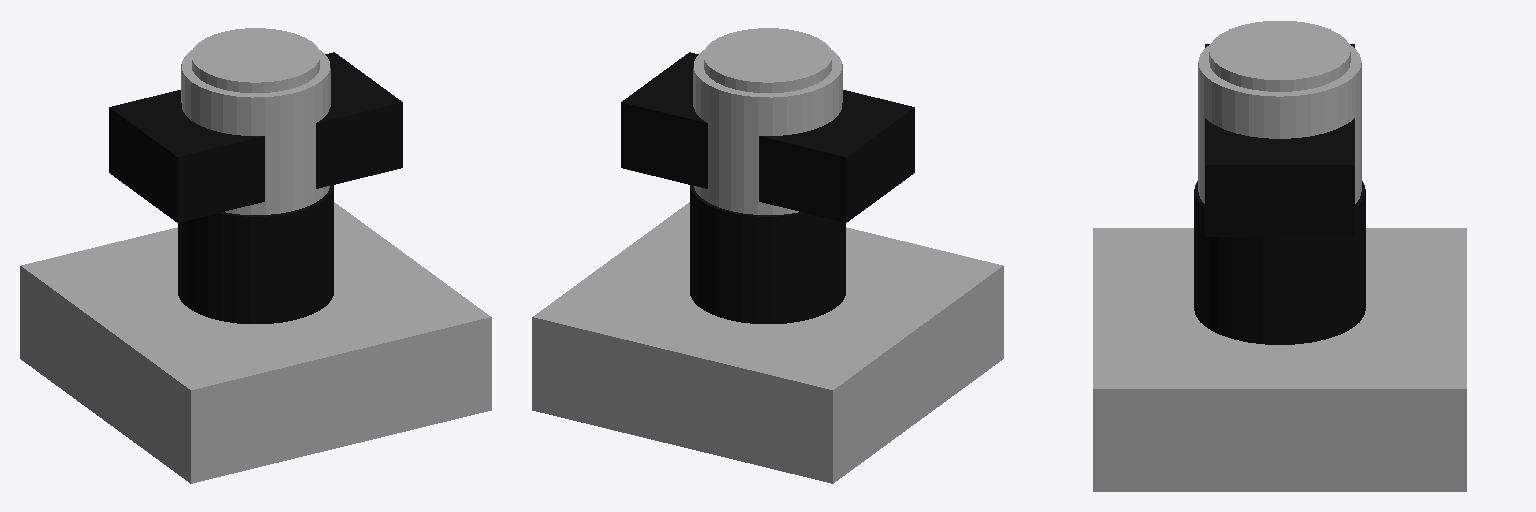
The robot description file, URDF, robot "evolved_robot":
<?xml version="1.0"?>
<robot name="evolved_robot">
  <material name="metal">
    <color rgba="0.7 0.7 0.7 1.0"/>
  </material>
  <material name="plastic">
    <color rgba="0.3 0.3 0.9 1.0"/>
  </material>
  <material name="rubber">
    <color rgba="0.1 0.1 0.1 1.0"/>
  </material>
  <material name="red">
    <color rgba="1.0 0.0 0.0 1.0"/>
  </material>
  <material name="wheel_material">
    <color rgba="0.2 0.2 0.2 1.0"/>
  </material>
  <link name="base_link">
    <visual>
      <geometry><box size="0.30694219765450376 0.3014203492185933 0.09121875435821769"/></geometry>
      <material name="metal"/>
    </visual>
    <collision>
      <geometry><box size="0.30694219765450376 0.3014203492185933 0.09121875435821769"/></geometry>
    </collision>
    <inertial>
      <mass value="5.0"/>
      <inertia ixx="0.08264590672476967" ixy="0" ixz="0" 
               iyy="0.0854453115397011" iyz="0" 
               izz="0.15422311635336267"/>
    </inertial>
  </link>
  <link name="link1">
    <visual>
      <geometry><cylinder radius="0.0693888481214605" length="0.20992373954302018"/></geometry>
      <material name="rubber"/>
    </visual>
    <collision>
      <geometry><cylinder radius="0.0693888481214605" length="0.20992373954302018"/></geometry>
    </collision>
    <inertial>
      <mass value="0.5"/>
      <inertia ixx="0.0048760344295495925" ixy="0" ixz="0" 
               iyy="0.0048760344295495925" iyz="0" 
               izz="0.002407406121811556"/>
    </inertial>
  </link>
  <joint name="joint1" type="prismatic">
    <parent link="base_link"/>
    <child link="link1"/>
    <origin xyz="0 0 0.045609377179108845" rpy="0 0 0"/>
    <axis xyz="-0.006001300511877532 0.8579276199265342 -0.5137355188804433"/>
    <dynamics damping="0.8837598170592937" friction="0.1"/>
    <limit lower="-2.19055709544216" upper="0.942" effort="100" velocity="100"/>
  </joint>
  <link name="link2">
    <visual>
      <geometry>
        <cylinder radius="0.05431213354518122" length="0.04821138832144219"/>
      </geometry>
      <material name="wheel_material"/>
    </visual>
    <collision>
      <geometry>
        <cylinder radius="0.05431213354518122" length="0.04821138832144219"/>
      </geometry>
    </collision>
    <inertial>
      <mass value="1.0"/>
      <inertia ixx="0.0009311467928808074" ixy="0" ixz="0" 
               iyy="0.0009311467928808074" iyz="0" 
               izz="0.0014749039251147995"/>
    </inertial>
  </link>
  <joint name="joint2" type="continuous">
    <parent link="base_link"/>
    <child link="link2"/>
    <origin xyz="0 0 0" rpy="1.5708 0 0"/>
    <axis xyz="0 0 1"/>
    <dynamics damping="0.22772052215840985" friction="0.1"/>
  </joint>
  <link name="link3">
    <visual>
      <geometry><sphere radius="0.027888158222664793"/></geometry>
      <material name="plastic"/>
    </visual>
    <collision>
      <geometry><sphere radius="0.027888158222664793"/></geometry>
    </collision>
    <inertial>
      <mass value="0.5"/>
      <inertia ixx="0.00031109974762095436" ixy="0" ixz="0" 
               iyy="0.00031109974762095436" iyz="0" 
               izz="0.00031109974762095436"/>
    </inertial>
  </link>
  <joint name="joint3" type="fixed">
    <parent link="base_link"/>
    <child link="link3"/>
    <origin xyz="0 0 0.09560937717910885" rpy="0 0 0"/>
    <axis xyz="0.8829504837056774 -0.27215000628798625 0.382534727052799"/>
    <dynamics damping="0.8036165011211521" friction="0.1"/>
  </joint>
  <link name="link4">
    <visual>
      <geometry><cylinder radius="0.06603368923843765" length="0.23965232487031674"/></geometry>
      <material name="metal"/>
    </visual>
    <collision>
      <geometry><cylinder radius="0.06603368923843765" length="0.23965232487031674"/></geometry>
    </collision>
    <inertial>
      <mass value="0.5"/>
      <inertia ixx="0.005876215096588626" ixy="0" ixz="0" 
               iyy="0.005876215096588626" iyz="0" 
               izz="0.002180224057219278"/>
    </inertial>
  </link>
  <joint name="joint4" type="revolute">
    <parent link="base_link"/>
    <child link="link4"/>
    <origin xyz="0 0 0.14560937717910885" rpy="0 0 0"/>
    <axis xyz="0.008186361130485174 -0.6399150981040648 -0.7684020111308313"/>
    <dynamics damping="0.2837158774557361" friction="0.1"/>
    <limit lower="-1.7542596570890534" upper="0.39307273959162875" effort="100" velocity="100"/>
  </joint>
  <link name="link5">
    <visual>
      <geometry><box size="0.23017336174680952 0.12102854168484478 0.06424431091508509"/></geometry>
      <material name="rubber"/>
    </visual>
    <collision>
      <geometry><box size="0.23017336174680952 0.12102854168484478 0.06424431091508509"/></geometry>
    </collision>
    <inertial>
      <mass value="0.5"/>
      <inertia ixx="0.0015646032822761943" ixy="0" ixz="0" 
               iyy="0.00475892566189848" iyz="0" 
               izz="0.005635640363348987"/>
    </inertial>
  </link>
  <joint name="joint5" type="fixed">
    <parent link="base_link"/>
    <child link="link5"/>
    <origin xyz="0 0 0.19560937717910887" rpy="0 0 0"/>
    <axis xyz="0.6805495664572401 0.2977869350930787 0.6694589075385681"/>
    <dynamics damping="0.368804299831064" friction="0.1"/>
  </joint>
  <link name="link6">
    <visual>
      <geometry><cylinder radius="0.05715662929169568" length="0.06049280912689717"/></geometry>
      <material name="metal"/>
    </visual>
    <collision>
      <geometry><cylinder radius="0.05715662929169568" length="0.06049280912689717"/></geometry>
    </collision>
    <inertial>
      <mass value="0.5"/>
      <inertia ixx="0.0011216683976690157" ixy="0" ixz="0" 
               iyy="0.0011216683976690157" iyz="0" 
               izz="0.0016334401359941624"/>
    </inertial>
  </link>
  <joint name="joint6" type="fixed">
    <parent link="base_link"/>
    <child link="link6"/>
    <origin xyz="0 0 0.24560937717910886" rpy="0 0 0"/>
    <axis xyz="0.7650317490369187 0.2079484015157825 -0.6094947787081888"/>
    <dynamics damping="0.2158883880953235" friction="0.1"/>
  </joint>
</robot>

--- Render facts (derived) ---
Views: 3 orthographic renders of the robot side by side, from view 1: azimuth 30°, elevation 25°; view 2: azimuth 150°, elevation 25°; view 3: azimuth 270°, elevation 25°.
Model evolved_robot with 7 links and 6 joints (1 revolute, 1 continuous, 1 prismatic, 3 fixed), rooted at base_link, posed all joints at 0.
Visible links, largest first — view 1: base_link, link5, link1, link4, link6; view 2: base_link, link5, link1, link4, link6; view 3: base_link, link1, link5, link4, link6.
Boxes of the visible links, x1,y1,x2,y2 form: base_link: (20, 202, 491, 483); link5: (109, 52, 402, 222); link1: (178, 185, 333, 323); link4: (181, 50, 330, 214); link6: (192, 28, 319, 92); base_link: (532, 202, 1003, 483); link5: (621, 52, 914, 222); link1: (690, 185, 845, 323); link4: (693, 50, 842, 214); link6: (704, 28, 831, 92); base_link: (1093, 228, 1466, 491); link1: (1194, 181, 1365, 344); link5: (1205, 44, 1354, 236); link4: (1198, 44, 1361, 203); link6: (1209, 21, 1350, 91).
Bounding box of the posed robot: 0.3069 × 0.3014 × 0.3352 m (x, y, z).
Geometry: primitives only (box / cylinder / sphere), no mesh files.